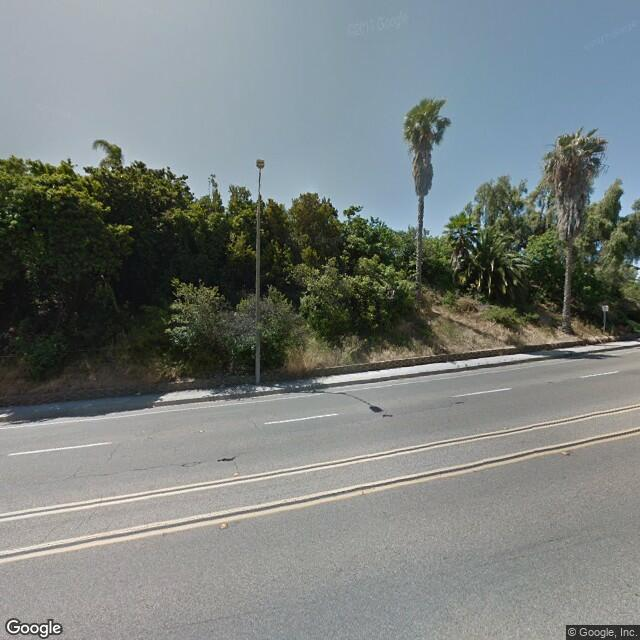litter: (134, 391, 145, 396), (218, 384, 226, 387)
